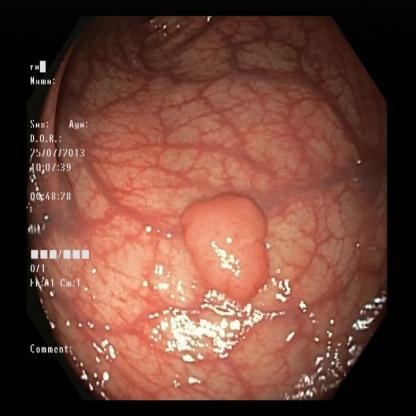Labels: (26, 61, 103, 359)
Polyps: (166, 191, 296, 298)
